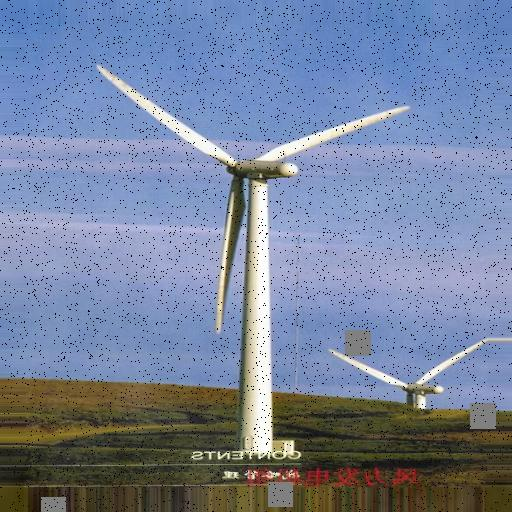wind turbine: (93, 64, 412, 448)
